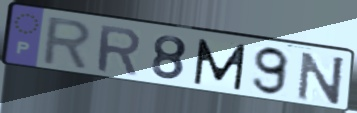8: (149, 34, 190, 82)
9: (249, 44, 293, 98)
M: (192, 37, 249, 92)
N: (295, 50, 347, 106)
R: (39, 15, 95, 74), (95, 23, 143, 79)
